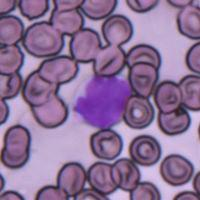M: (72, 72, 132, 129)
